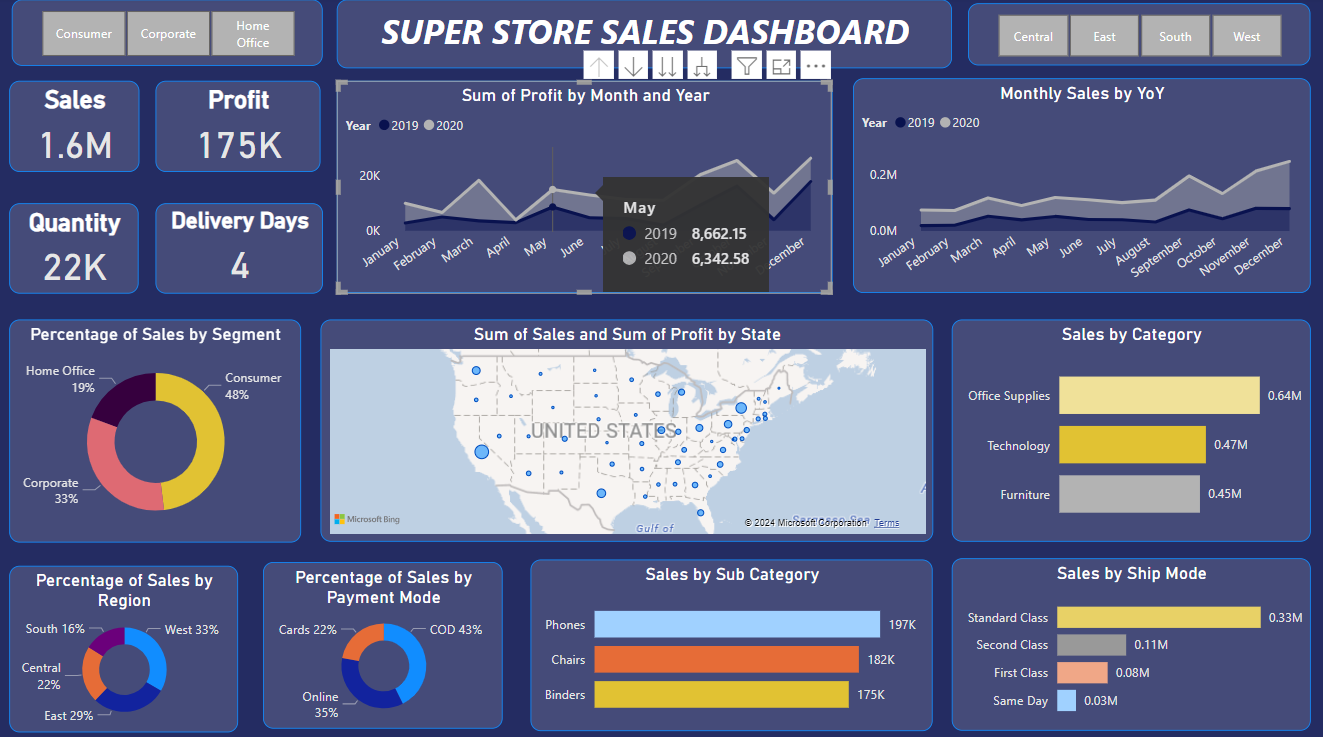

The dashboard page shown, as its layout file describes it:
{"tool":"powerbi","page":{"name":"Page 1","canvas":[1280,720],"ordinal":0},"visuals":[{"type":"clusteredBarChart","title":"Sales by Category","fields":{"Category":["SuperStore_Sales_Dataset.Category"],"Y":["Sum(SuperStore_Sales_Dataset.Sales)"]},"box":[920.2,311.2,346.1,214.7],"z":0},{"type":"clusteredBarChart","title":"Sales by Sub Category","fields":{"Category":["SuperStore_Sales_Dataset.Sub-Category"],"Y":["Sum(SuperStore_Sales_Dataset.Sales)"]},"box":[513.8,542.7,388.3,165.2],"z":1000},{"type":"clusteredBarChart","title":"Sales by Ship Mode","fields":{"Category":["SuperStore_Sales_Dataset.Ship Mode"],"Y":["Sum(SuperStore_Sales_Dataset.Sales)"]},"box":[920,541.2,346.2,166.2],"z":2000},{"type":"stackedAreaChart","title":"Monthly Sales by YoY","fields":{"Y":["Sum(SuperStore_Sales_Dataset.Sales)"],"Category":["SuperStore_Sales_Dataset.Order Date.Variation.Date Hierarchy.Month","SuperStore_Sales_Dataset.Order Date.Variation.Date Hierarchy.Day"],"Series":["SuperStore_Sales_Dataset.Order Date.Variation.Date Hierarchy.Year"]},"box":[825,78.8,441.2,207.5],"z":3000},{"type":"stackedAreaChart","fields":{"Category":["SuperStore_Sales_Dataset.Order Date.Variation.Date Hierarchy.Month","SuperStore_Sales_Dataset.Order Date.Variation.Date Hierarchy.Day"],"Series":["SuperStore_Sales_Dataset.Order Date.Variation.Date Hierarchy.Year"],"Y":["Sum(SuperStore_Sales_Dataset.Profit)"]},"box":[326.2,81.2,478.8,205],"z":4000},{"type":"map","fields":{"Category":["SuperStore_Sales_Dataset.State"],"Size":["Sum(SuperStore_Sales_Dataset.Sales)"]},"box":[311.2,311.2,591,214.7],"z":5000},{"type":"donutChart","title":"Percentage of Sales by Segment","fields":{"Category":["SuperStore_Sales_Dataset.Segment"],"Y":["Sum(SuperStore_Sales_Dataset.Sales)"]},"box":[11.2,311.2,281.2,215],"z":6000},{"type":"donutChart","title":"Percentage of Sales by Payment Mode","fields":{"Category":["SuperStore_Sales_Dataset.Payment Mode"],"Y":["Sum(SuperStore_Sales_Dataset.Sales)"]},"box":[255.7,545.1,231.6,160.4],"z":7000},{"type":"slicer","fields":{"Values":["SuperStore_Sales_Dataset.Region"]},"box":[936.2,6.2,330,60],"z":8000},{"type":"textbox","box":[326.2,2.5,593.8,66.2],"z":9000},{"type":"card","title":"Sales","fields":{"Values":["Sum(SuperStore_Sales_Dataset.Sales)"]},"box":[11.2,81.2,125,87.5],"z":10000},{"type":"card","title":"Quantity","fields":{"Values":["Sum(SuperStore_Sales_Dataset.Quantity)"]},"box":[11.2,198.8,125,87.5],"z":11000},{"type":"card","title":"Profit","fields":{"Values":["Sum(SuperStore_Sales_Dataset.Profit)"]},"box":[161.2,81.2,152.5,87.5],"z":12000},{"type":"card","title":"Delivery Days","fields":{"Values":["Avg(SuperStore_Sales_Dataset.AvgDelievery)"]},"box":[162.5,198.8,151.2,87.5],"z":13000},{"type":"donutChart","title":"Percentage of Sales by Region","fields":{"Category":["SuperStore_Sales_Dataset.Region"],"Y":["Sum(SuperStore_Sales_Dataset.Sales)"]},"box":[10.9,548.7,220.7,160.4],"z":14000},{"type":"slicer","fields":{"Values":["SuperStore_Sales_Dataset.Segment"]},"box":[11.2,2.5,300,63.8],"z":15000}]}

Visuals, with their boxes in screenshot pixels (x1, y1, x2, y2), scaled from the page's 1280x720 canvas onto the 1323x737 screenshot:
"Sales by Category" clusteredBarChart: Rect(951, 319, 1309, 538)
"Sales by Sub Category" clusteredBarChart: Rect(531, 556, 932, 725)
"Sales by Ship Mode" clusteredBarChart: Rect(951, 554, 1309, 724)
"Monthly Sales by YoY" stackedAreaChart: Rect(853, 81, 1309, 293)
stackedAreaChart - SuperStore_Sales_Dataset.Order Date.Variation.Date Hierarchy.Month x SuperStore_Sales_Dataset.Order Date.Variation.Date Hierarchy.Day: Rect(337, 83, 832, 293)
map - SuperStore_Sales_Dataset.State x Sum(SuperStore_Sales_Dataset.Sales): Rect(322, 319, 933, 538)
"Percentage of Sales by Segment" donutChart: Rect(12, 319, 302, 539)
"Percentage of Sales by Payment Mode" donutChart: Rect(264, 558, 504, 722)
slicer - SuperStore_Sales_Dataset.Region: Rect(968, 6, 1309, 68)
textbox: Rect(337, 3, 951, 70)
"Sales" card: Rect(12, 83, 141, 173)
"Quantity" card: Rect(12, 203, 141, 293)
"Profit" card: Rect(167, 83, 324, 173)
"Delivery Days" card: Rect(168, 203, 324, 293)
"Percentage of Sales by Region" donutChart: Rect(11, 562, 239, 726)
slicer - SuperStore_Sales_Dataset.Segment: Rect(12, 3, 322, 68)
